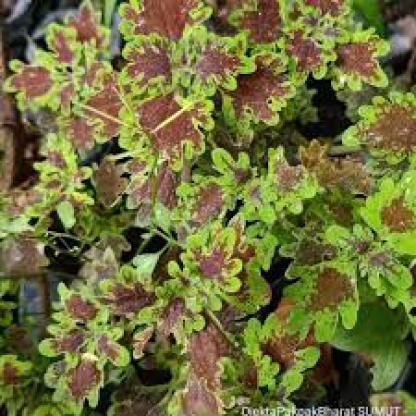Bunga Coleus: (27, 21, 402, 380)
